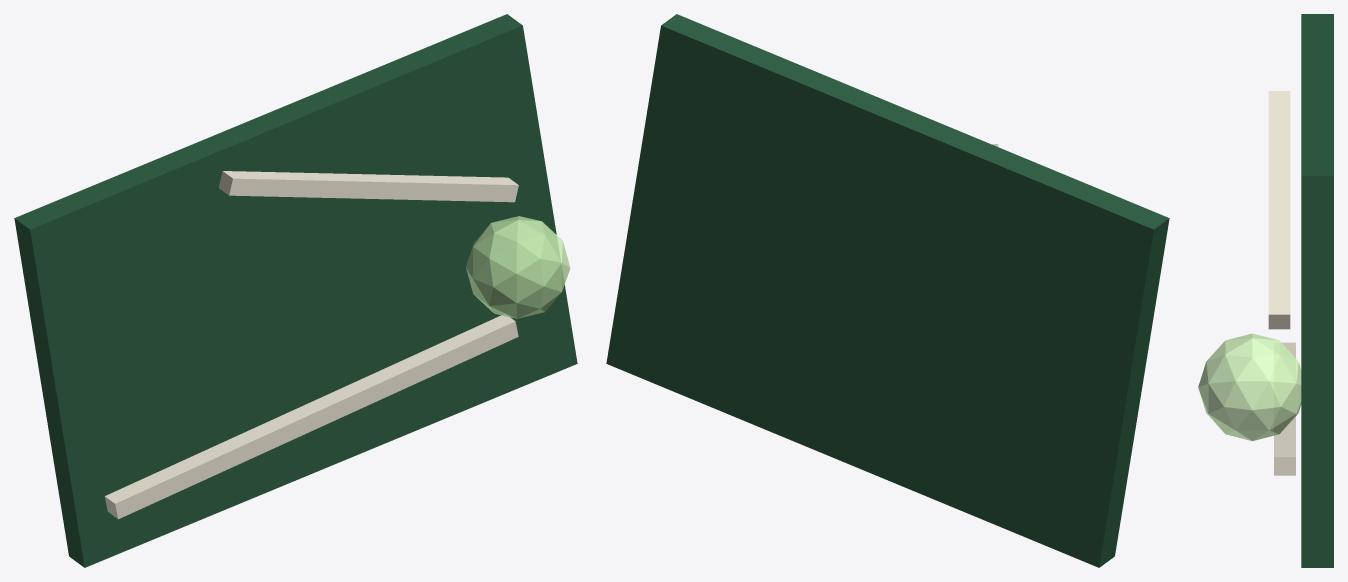
The model's file is 02_world_prop_polish.glb.
3 renders of one model, left to right at view 1: azimuth 30°, elevation 25°; view 2: azimuth 150°, elevation 25°; view 3: azimuth 270°, elevation 25°, orthographic. The views are drawn at different scales.
Parts seen in each view (by area): view 1: object_overlay_plate, edge_wear_a, glow_socket, edge_wear_b; view 2: object_overlay_plate; view 3: object_overlay_plate, glow_socket, edge_wear_b, edge_wear_a.
Part boxes in pixels (bbox=[...]): object_overlay_plate: bbox=[14, 14, 577, 567]; edge_wear_a: bbox=[104, 314, 518, 519]; glow_socket: bbox=[465, 216, 570, 318]; edge_wear_b: bbox=[218, 171, 518, 202]; object_overlay_plate: bbox=[606, 14, 1169, 567]; object_overlay_plate: bbox=[1301, 14, 1333, 567]; glow_socket: bbox=[1198, 333, 1301, 441]; edge_wear_b: bbox=[1268, 91, 1290, 329]; edge_wear_a: bbox=[1274, 342, 1295, 475].
Bounding box in the file's own units: 1.21 × 0.9169 × 0.25.
